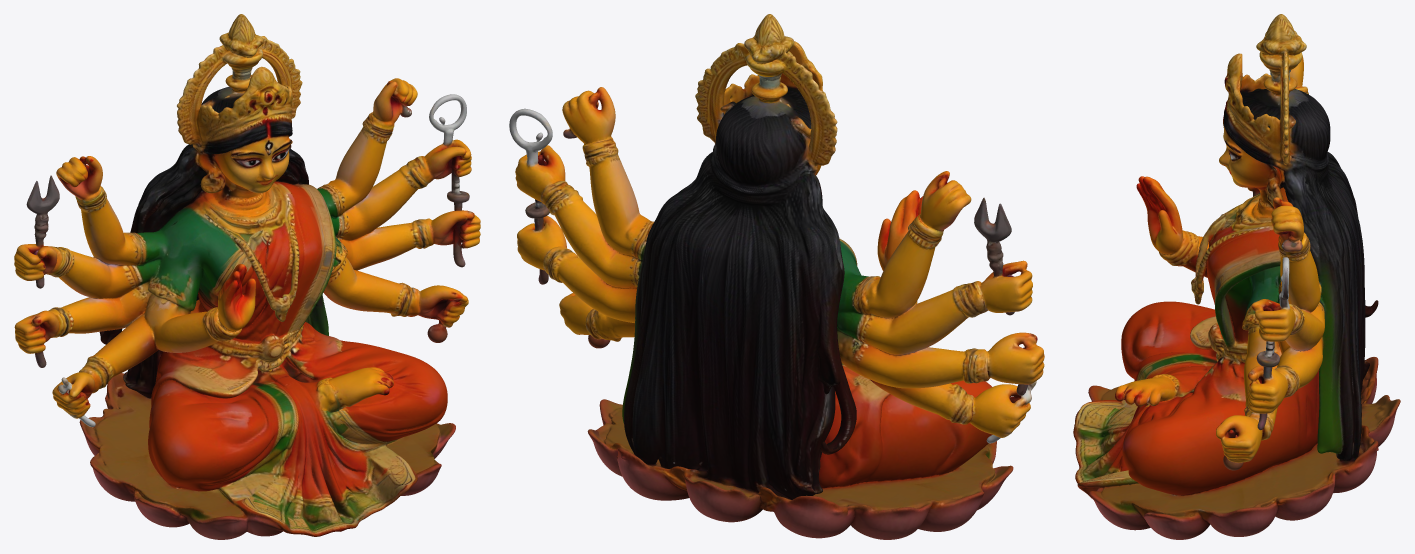
The model's file is durga+idol+3d+model.glb.
3 views of the same model, side by side, from view 1: azimuth 30°, elevation 25°; view 2: azimuth 150°, elevation 25°; view 3: azimuth 270°, elevation 25° (orthographic). The views are drawn at different scales.
Parts seen in each view (by area): view 1: tripo_node_e090ac7f-f368-473b-879a-ba8e495d6f84; view 2: tripo_node_e090ac7f-f368-473b-879a-ba8e495d6f84; view 3: tripo_node_e090ac7f-f368-473b-879a-ba8e495d6f84.
Boxes of the visible parts, x1,y1,x2,y2 form: tripo_node_e090ac7f-f368-473b-879a-ba8e495d6f84: (14,14,480,539); tripo_node_e090ac7f-f368-473b-879a-ba8e495d6f84: (509,14,1044,539); tripo_node_e090ac7f-f368-473b-879a-ba8e495d6f84: (1073,14,1400,539).
Size of the model in its own units: 1 by 0.9386 by 0.5943.
1 material, 1 textured.
